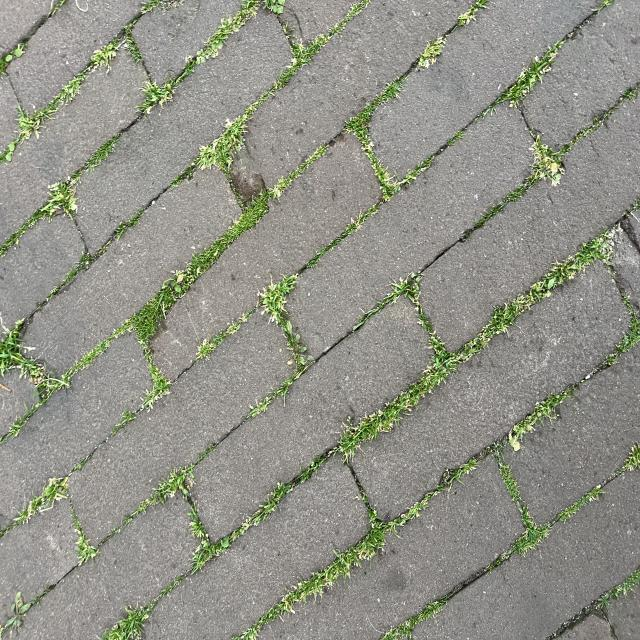pavement: (152, 371, 356, 585)
weedling: (84, 0, 638, 561)
